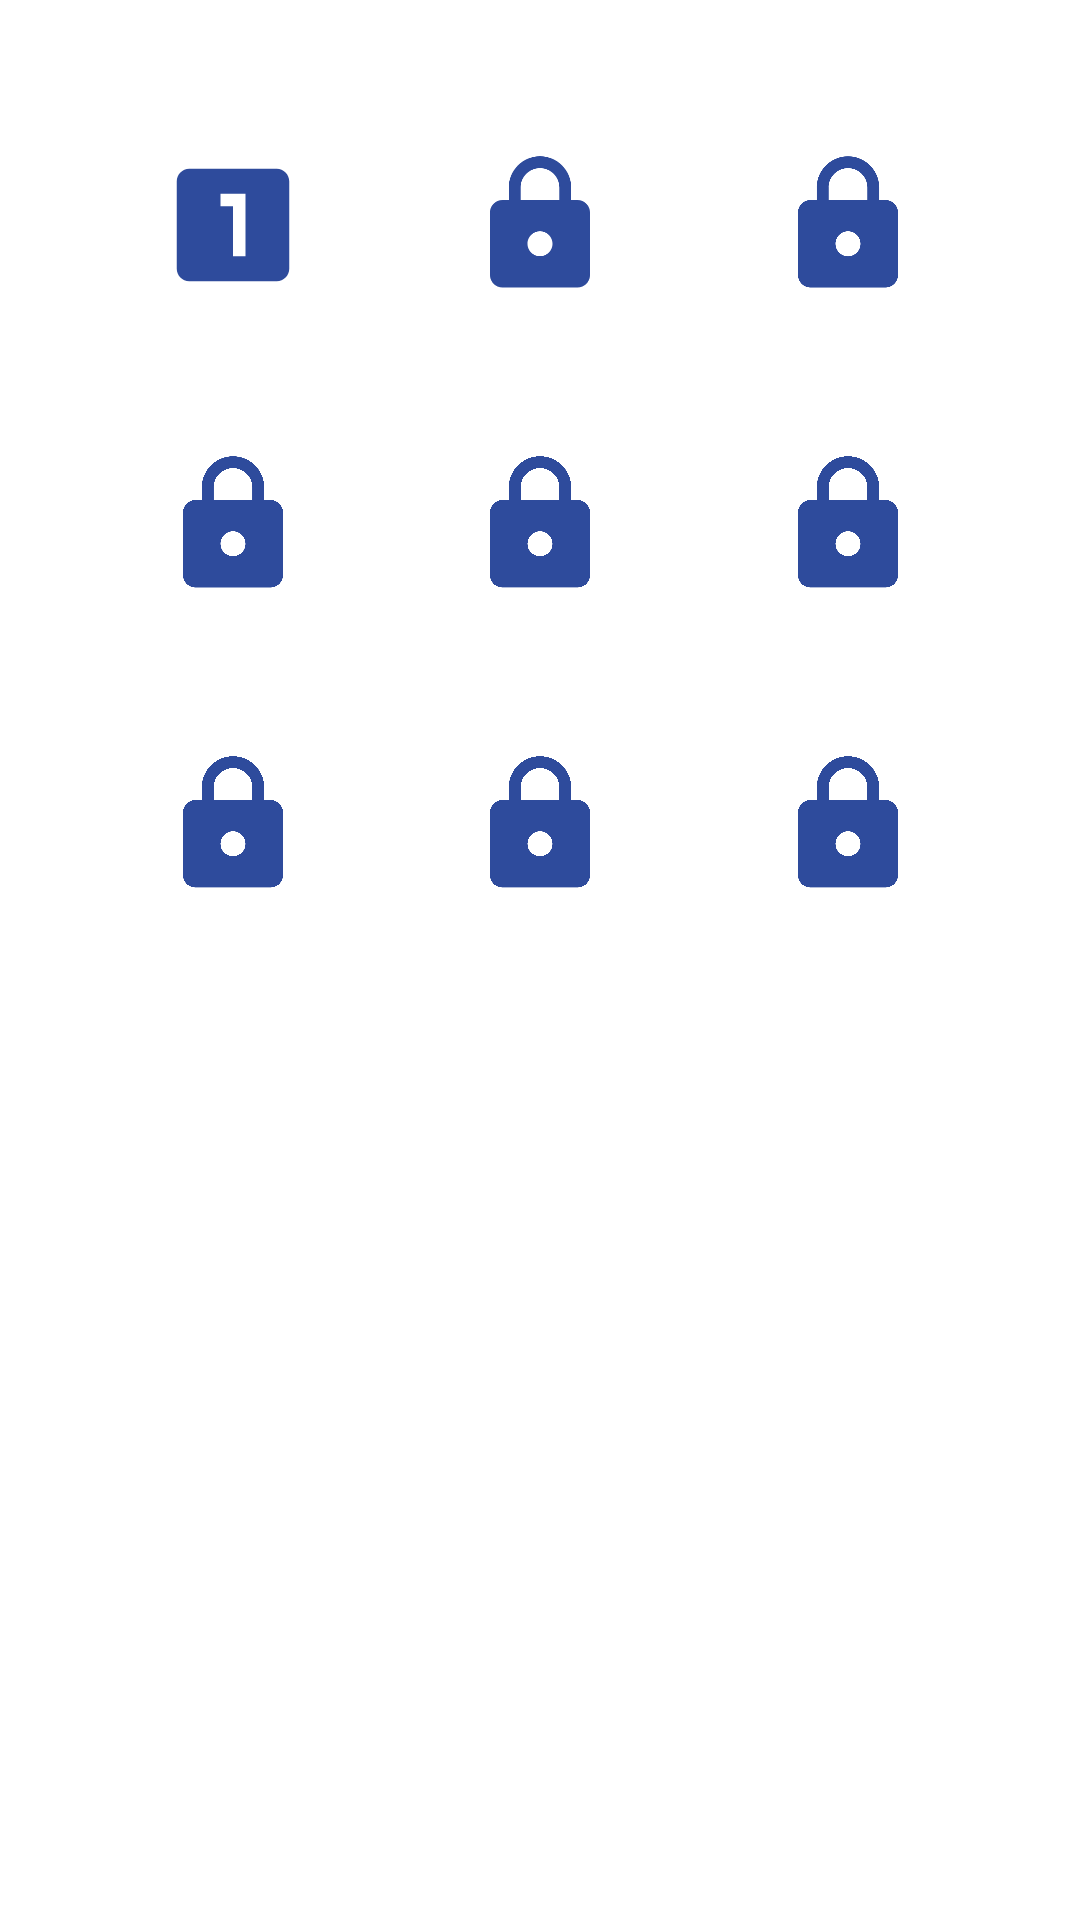

Where to tap for icons on this 1080x1920 app screen, as (x,y):
lock: (540,222), (848,222), (233,522), (540,522), (848,522), (233,822), (540,822), (848,822)
